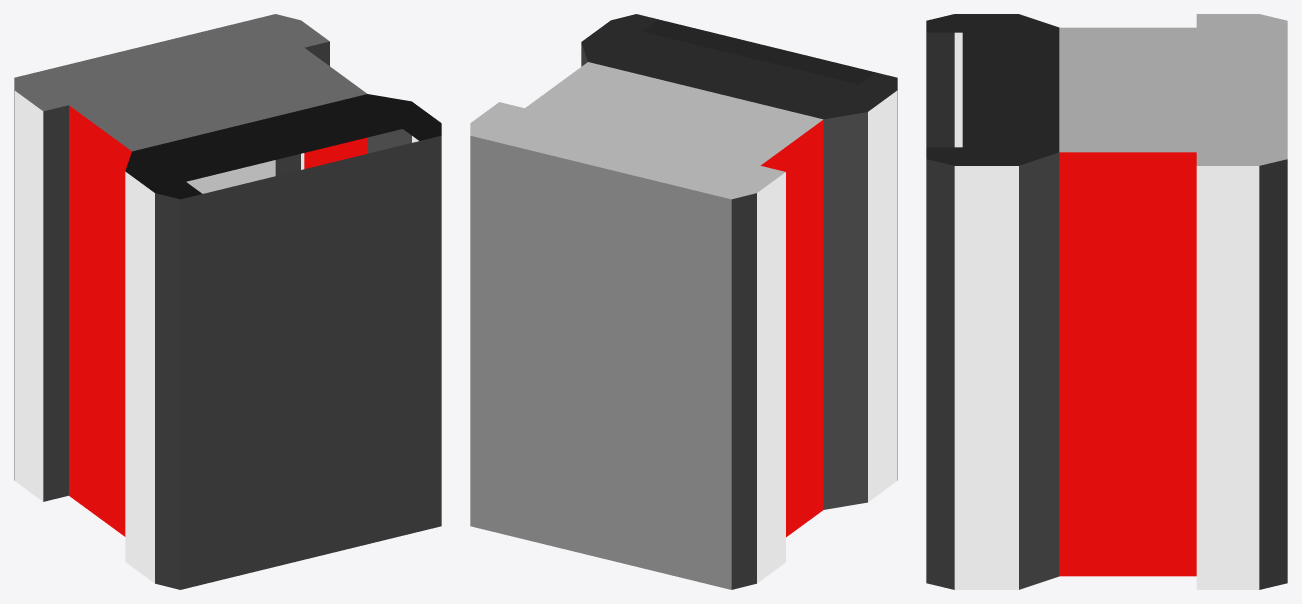
The model's file is reactorCoreConnector.obj.
3 views of the same model, side by side, from view 1: azimuth 30°, elevation 25°; view 2: azimuth 150°, elevation 25°; view 3: azimuth 270°, elevation 25° (orthographic). The views are drawn at different scales.
Visible parts, largest first — view 1: Box002; view 2: Box002; view 3: Box002.
Boxes of the visible parts, bbox=[...] form: Box002: bbox=[14, 14, 441, 589]; Box002: bbox=[470, 14, 897, 589]; Box002: bbox=[926, 14, 1287, 589].
Size of the model in its own units: 0.768 by 1 by 0.7715.
